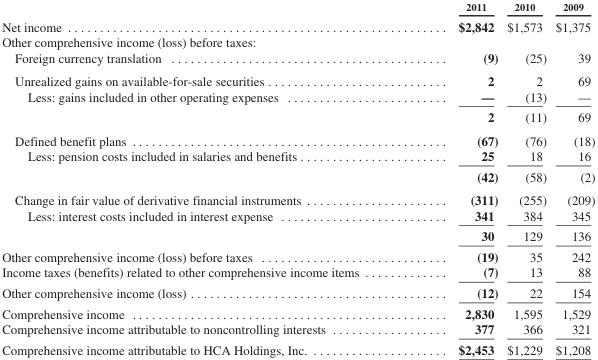table: (1, 0, 594, 356)
table column: (1, 0, 408, 356), (408, 0, 501, 356), (501, 0, 550, 356), (550, 0, 594, 356)
table column header: (1, 0, 594, 15)
table projected row header: (1, 34, 594, 49)
table row: (1, 106, 594, 128), (1, 165, 594, 187), (1, 68, 594, 88), (1, 187, 594, 207), (1, 225, 594, 245), (1, 282, 594, 302), (1, 15, 594, 34), (1, 49, 594, 68), (1, 128, 594, 147), (1, 245, 594, 264), (1, 88, 594, 106), (1, 147, 594, 165), (1, 207, 594, 225), (1, 264, 594, 282), (1, 302, 594, 320), (1, 320, 594, 338), (1, 338, 594, 356), (1, 0, 594, 15), (1, 34, 594, 49)
